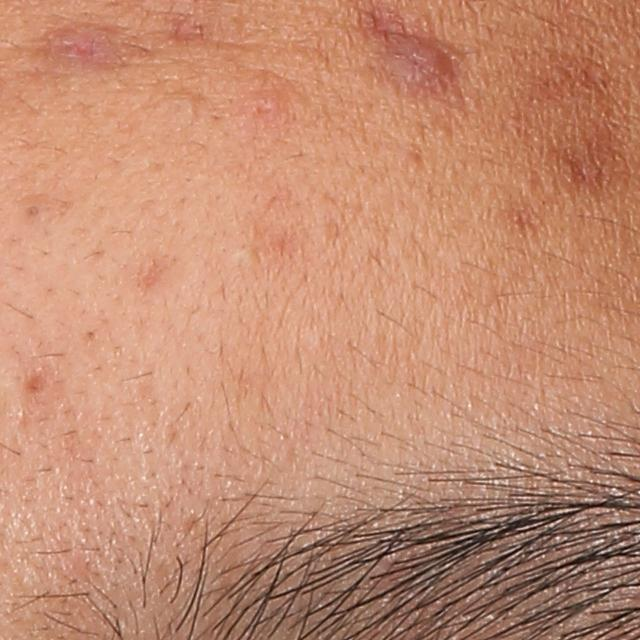comedo: (23, 200, 41, 221)
papule: (386, 37, 456, 89)
